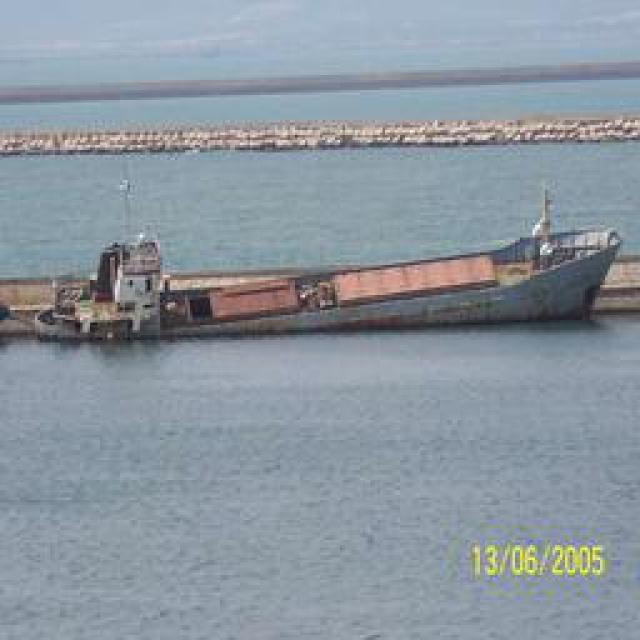Ship: (20, 207, 623, 347)
